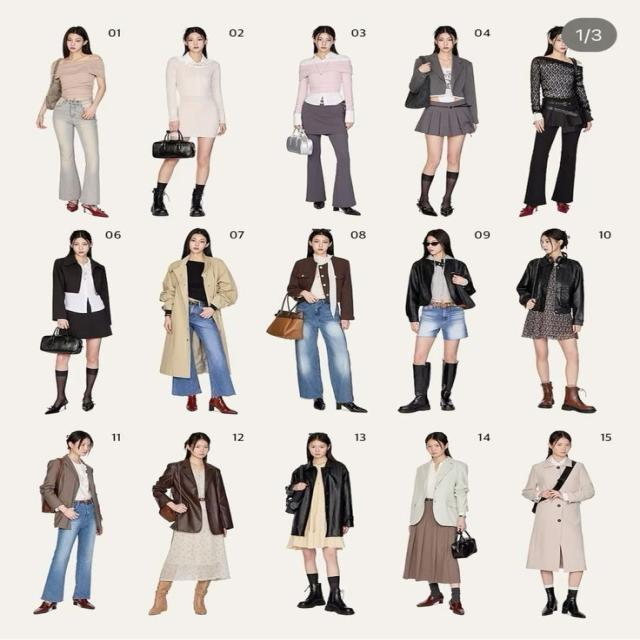person: (148, 431, 234, 616), (286, 228, 368, 413), (158, 227, 238, 414), (516, 228, 596, 413), (150, 26, 227, 217), (398, 228, 476, 413), (518, 25, 593, 217), (404, 25, 478, 216), (521, 430, 595, 618), (36, 26, 108, 218), (291, 25, 361, 216), (32, 430, 104, 614), (284, 432, 355, 615), (42, 229, 112, 414), (402, 431, 468, 615)
